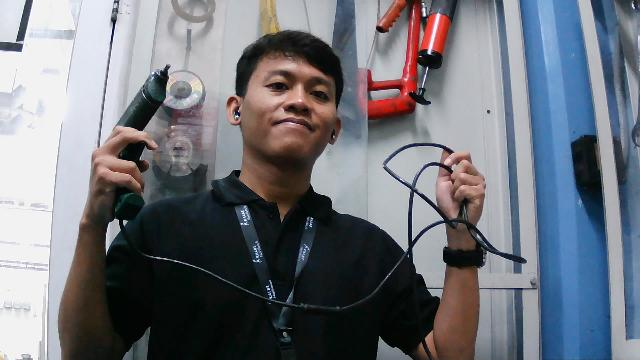gun_lem: (78, 61, 188, 233)
